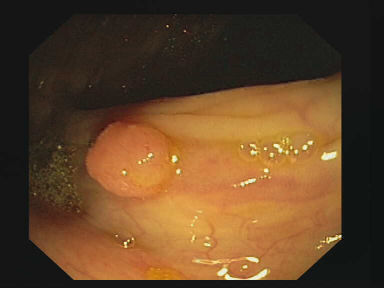polyp: (72, 108, 202, 209)
